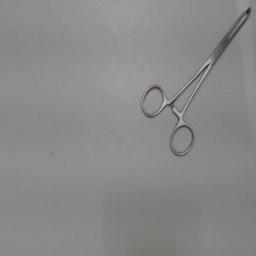Allis Tissue Forceps: (135, 4, 253, 162)
